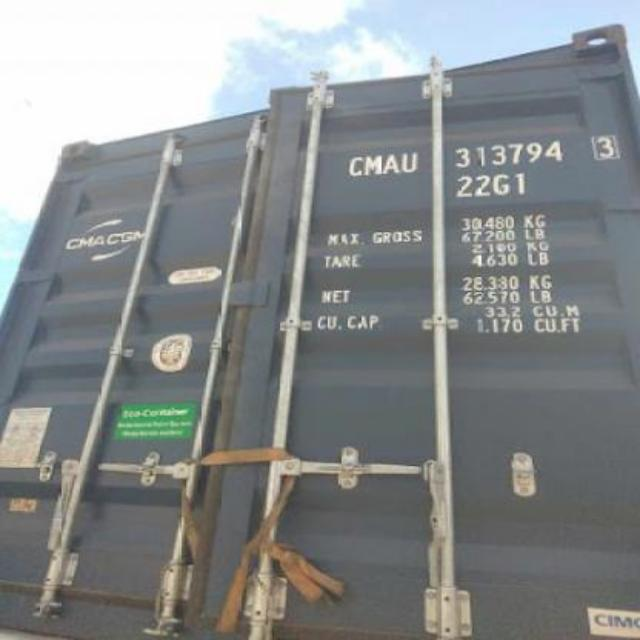1: (476, 145, 489, 169)
3: (454, 146, 472, 170), (490, 143, 508, 167), (596, 136, 614, 160)
4: (544, 136, 566, 164)
7: (506, 143, 526, 167)
9: (524, 138, 542, 166)
A: (382, 151, 402, 177)
C: (346, 154, 364, 176)
M: (364, 154, 382, 176)
U: (400, 150, 418, 173)
